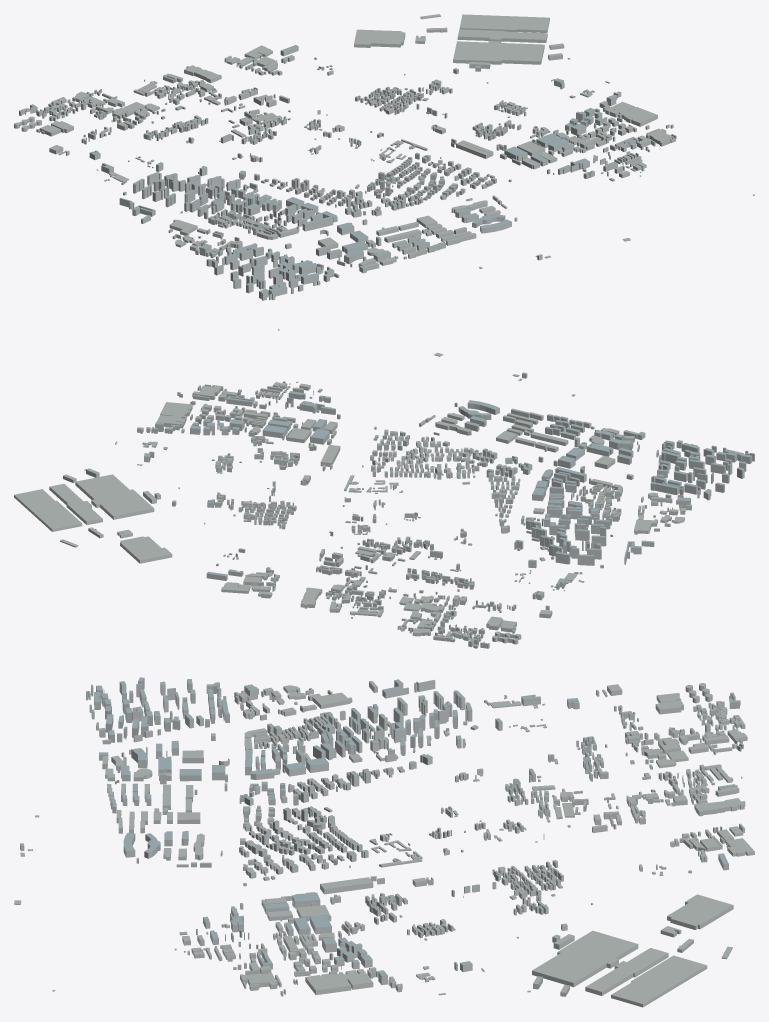
Rendered from far.glb.
3 renders of one model, top to bottom at view 1: azimuth 30°, elevation 25°; view 2: azimuth 150°, elevation 25°; view 3: azimuth 270°, elevation 25°, orthographic. The views are drawn at different scales.
Size of the model in its own units: 2196 by 39.08 by 2140.
